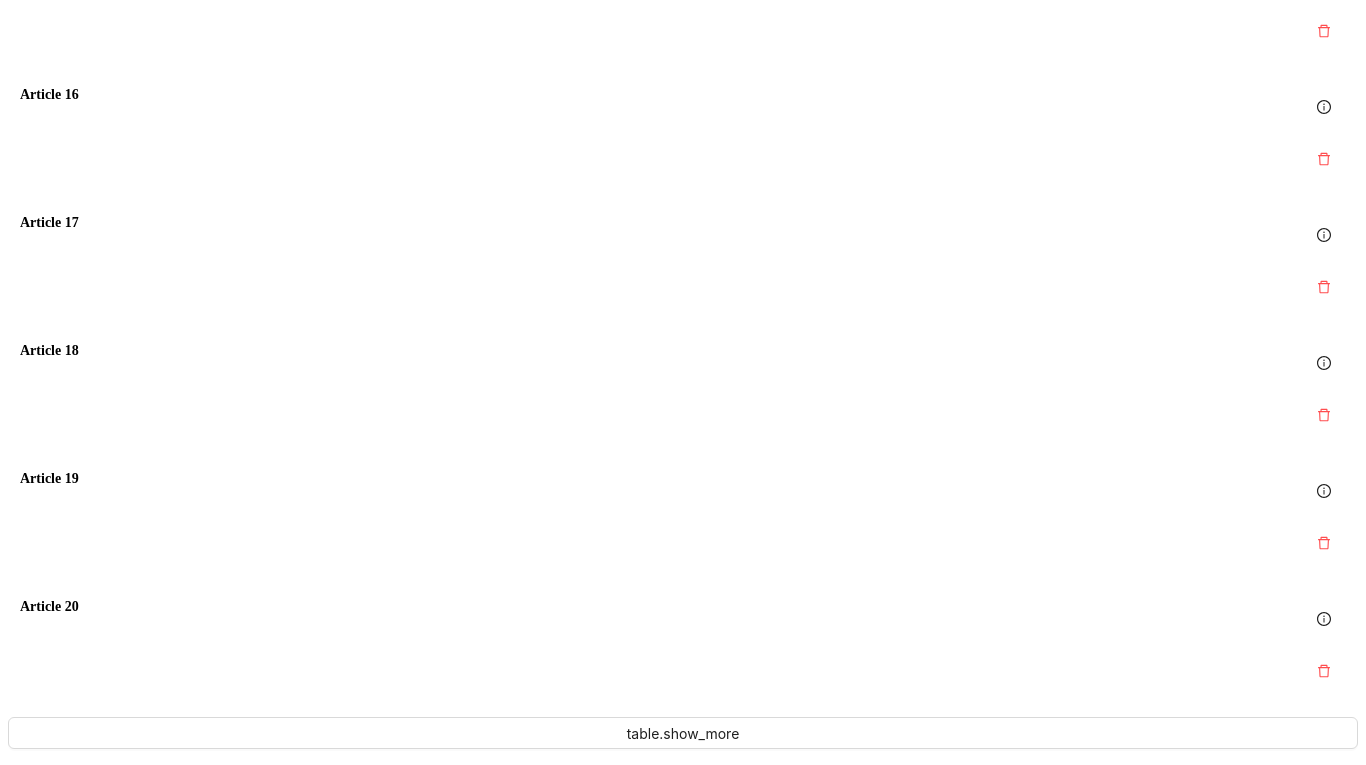
Test case: MobileCardList paging › shows 20 cards at first and 20 more per request
The image size is (1366, 765).
(page scrolled)
Expected: the text "Article 20" is shown, x1=20 y1=599 x2=79 y2=614
Click the button "table.show_more". click: (683, 733)
box: x1=8 y1=717 x2=1358 y2=749
(page scrolled)
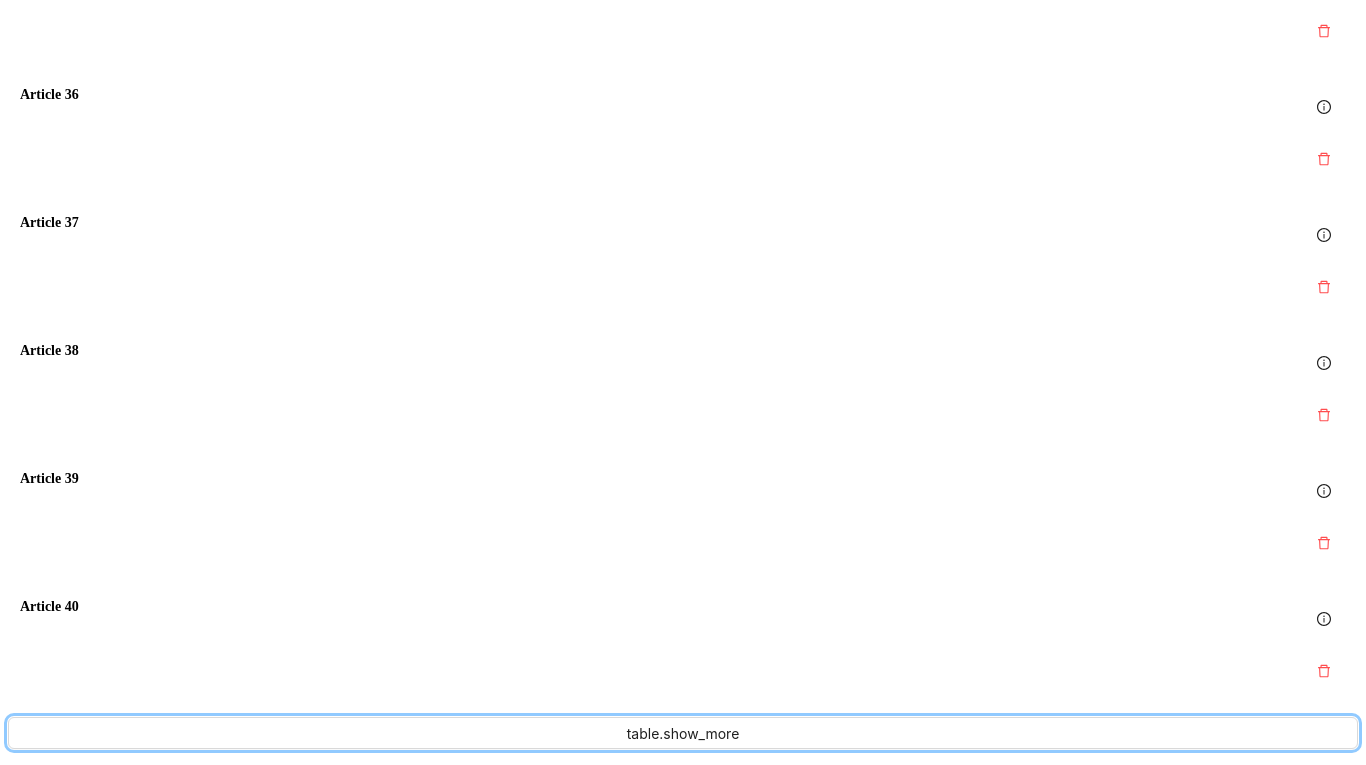
Expected: the text "Article 40" is shown, x1=20 y1=599 x2=79 y2=614
Click the button "table.show_more". click: (683, 733)
box: x1=8 y1=717 x2=1358 y2=749
(page scrolled)
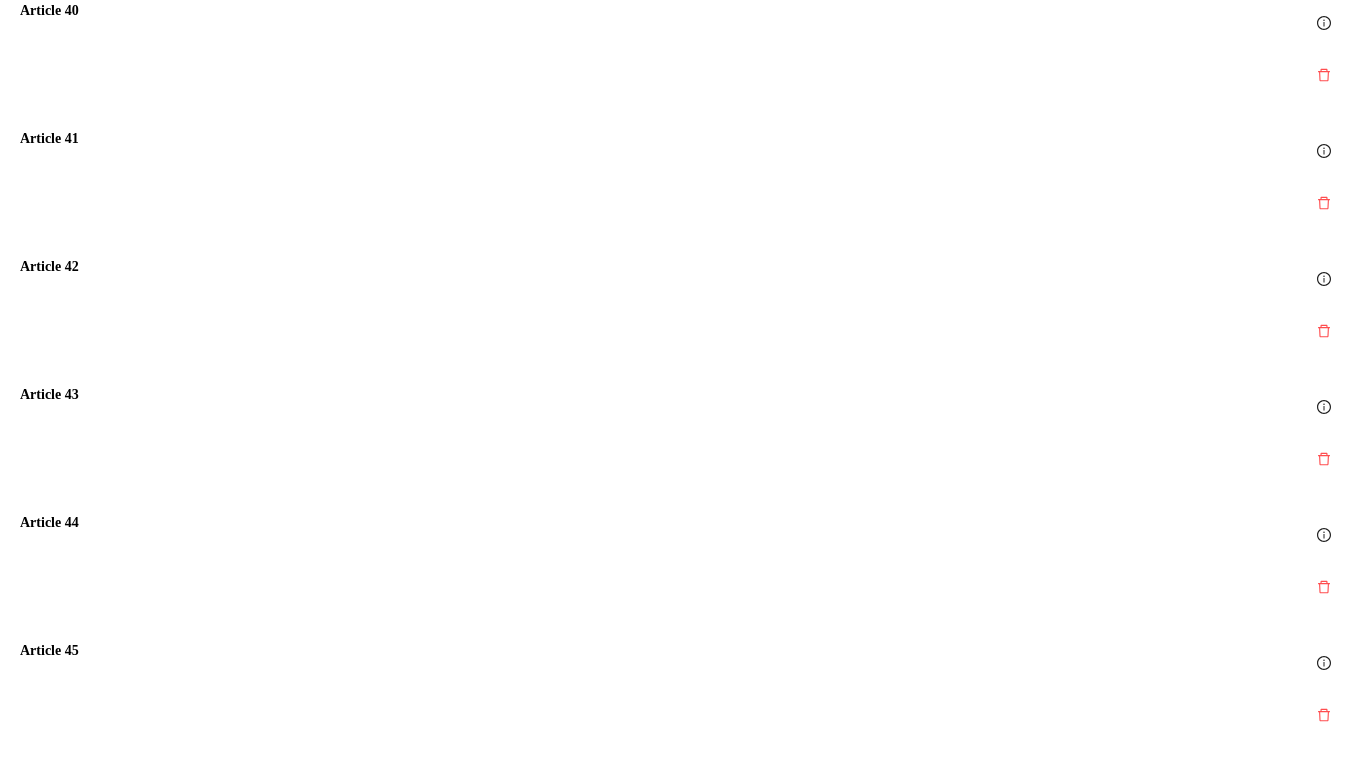
Expected: the text "Article 45" is shown, x1=20 y1=643 x2=79 y2=658
Expected: the button "table.show_more" is gone
